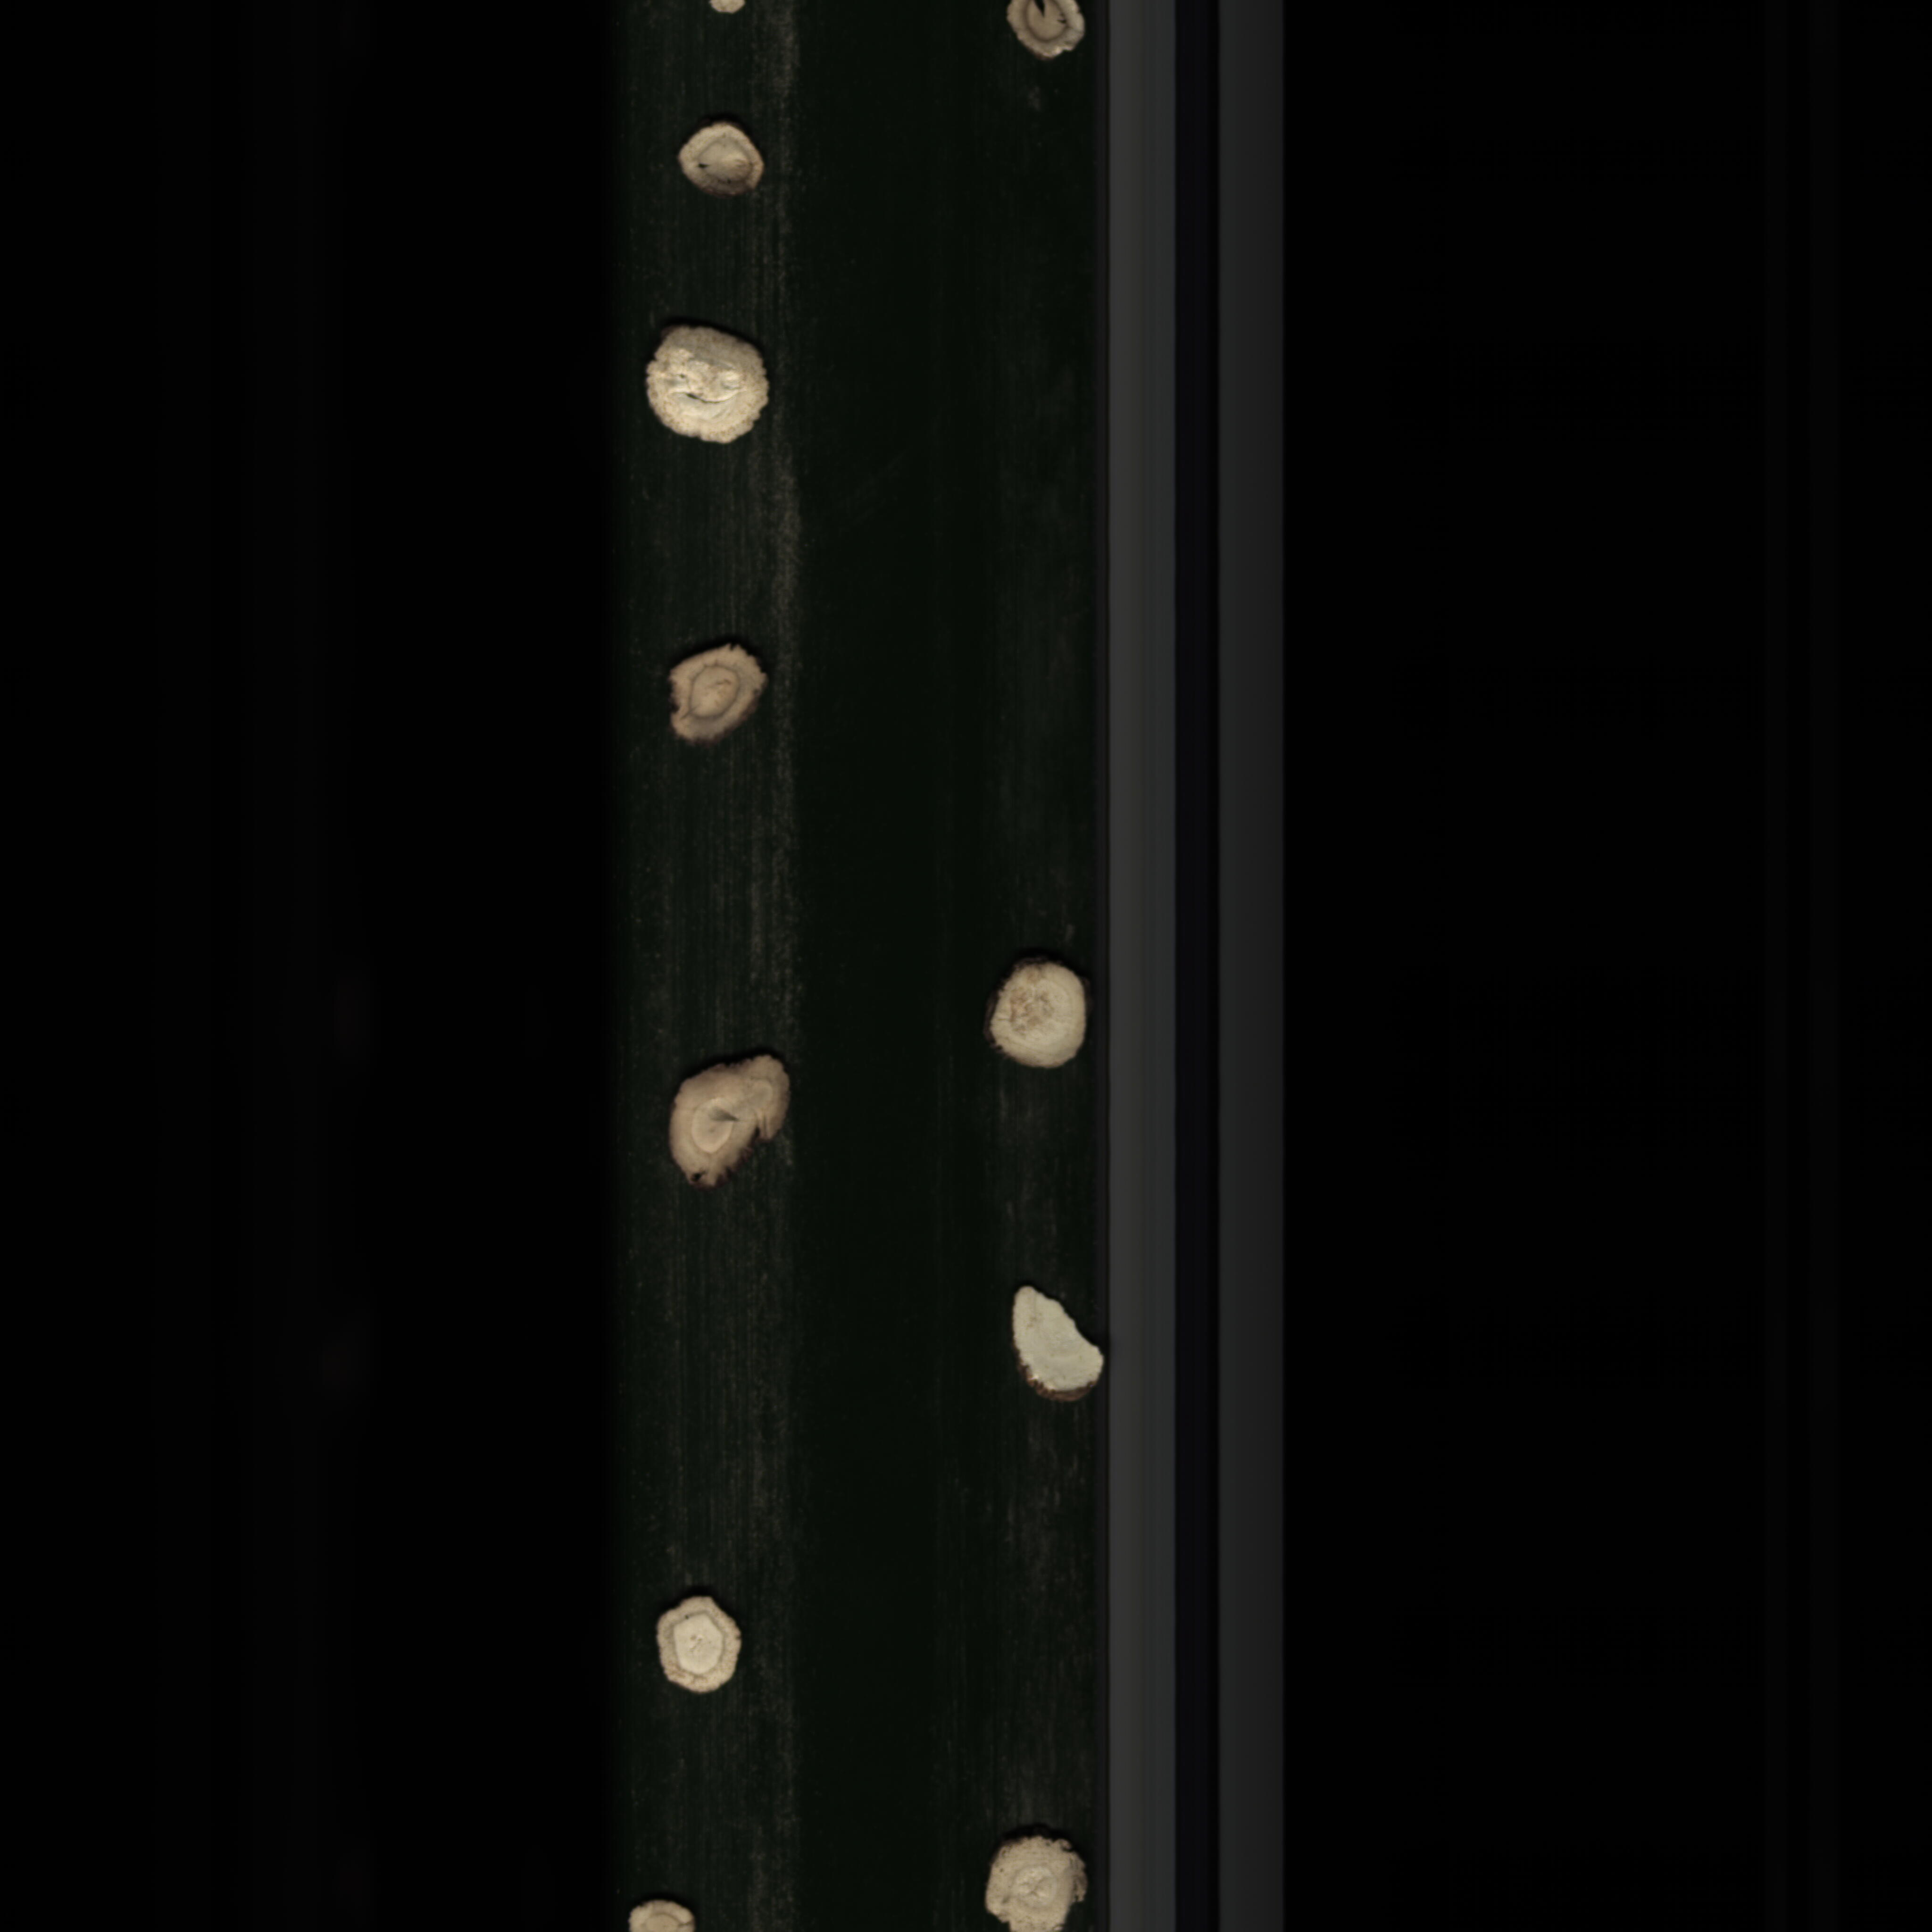debris: (1008, 1272, 1108, 1417)
distortion: (669, 115, 784, 203)
moldy: (662, 1044, 794, 1196), (656, 635, 773, 752), (996, 0, 1102, 65)
